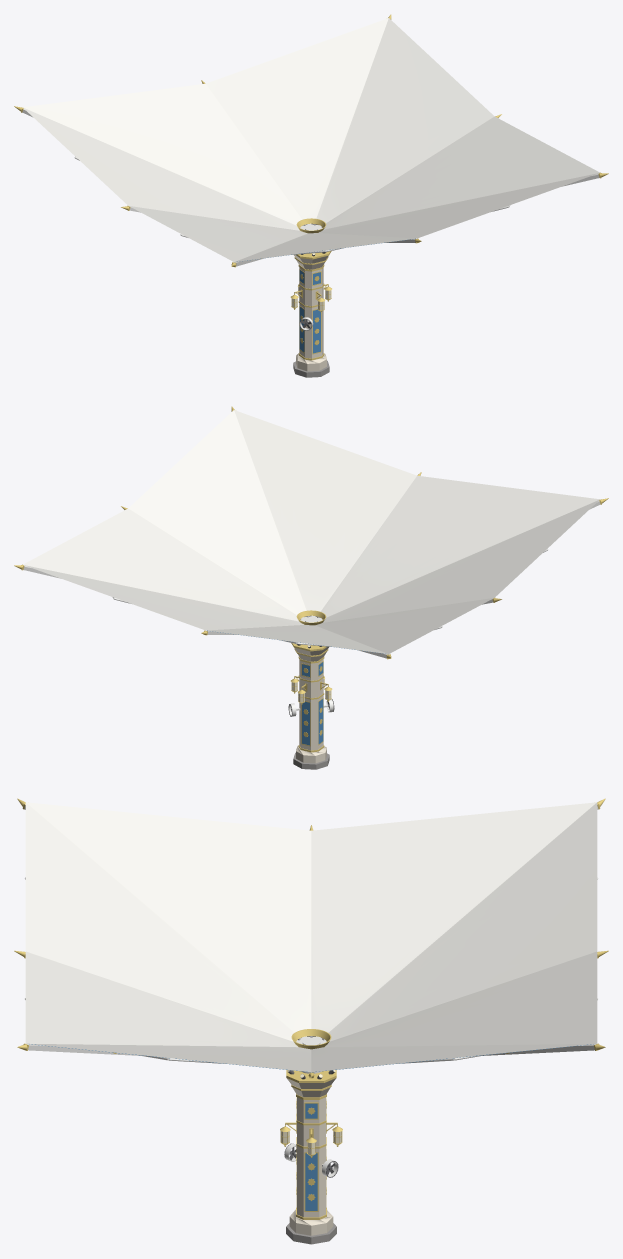
Rendered from madinah_umbrella.glb.
3 renders of one model, top to bottom at view 1: azimuth 30°, elevation 25°; view 2: azimuth 150°, elevation 25°; view 3: azimuth 270°, elevation 25°, orthographic. The views are drawn at different scales.
Parts seen in each view (by area): view 1: madinah_umbrella (×5); view 2: madinah_umbrella (×5); view 3: madinah_umbrella (×5).
Part boxes in pixels (left/top/right/bottom): madinah_umbrella (×5): left=14, top=14, right=608, bottom=371; madinah_umbrella (×5): left=14, top=406, right=608, bottom=763; madinah_umbrella (×5): left=14, top=798, right=608, bottom=1235.
Size of the model in its own units: 26.55 by 15.31 by 26.55.
